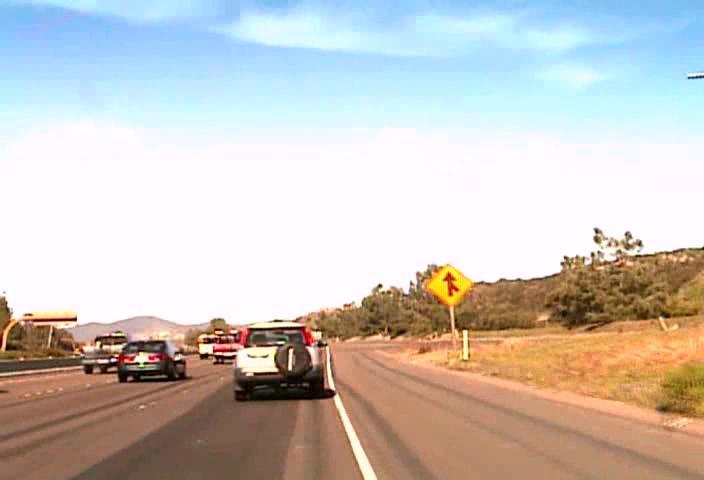merge: (425, 263, 472, 305)
